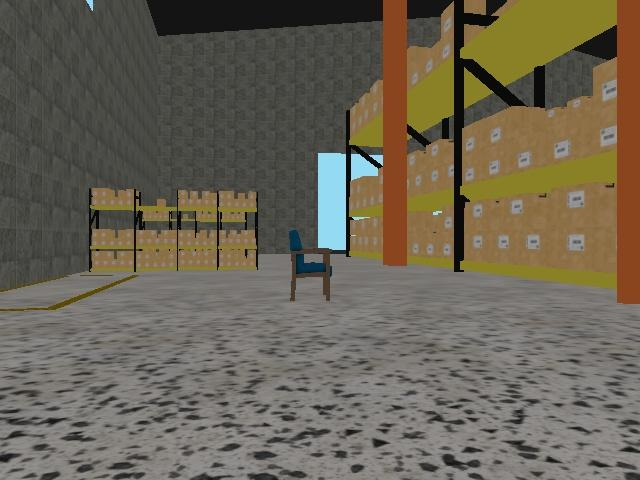chair: (285, 227, 334, 304)
